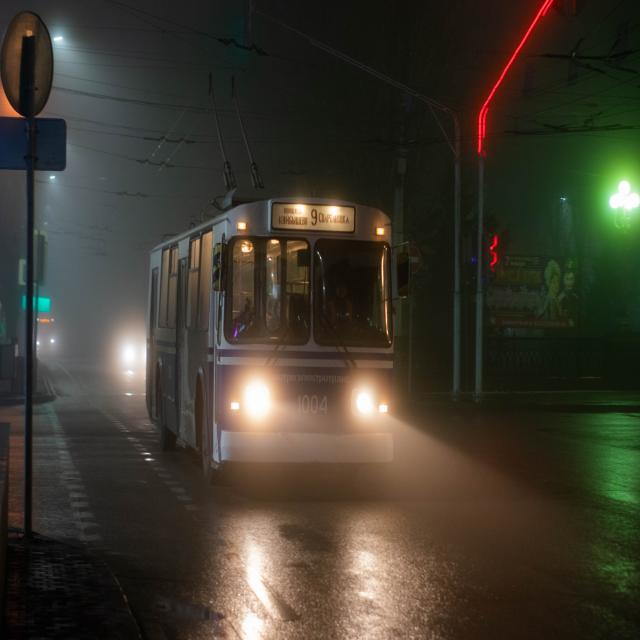bus: (144, 194, 413, 483)
